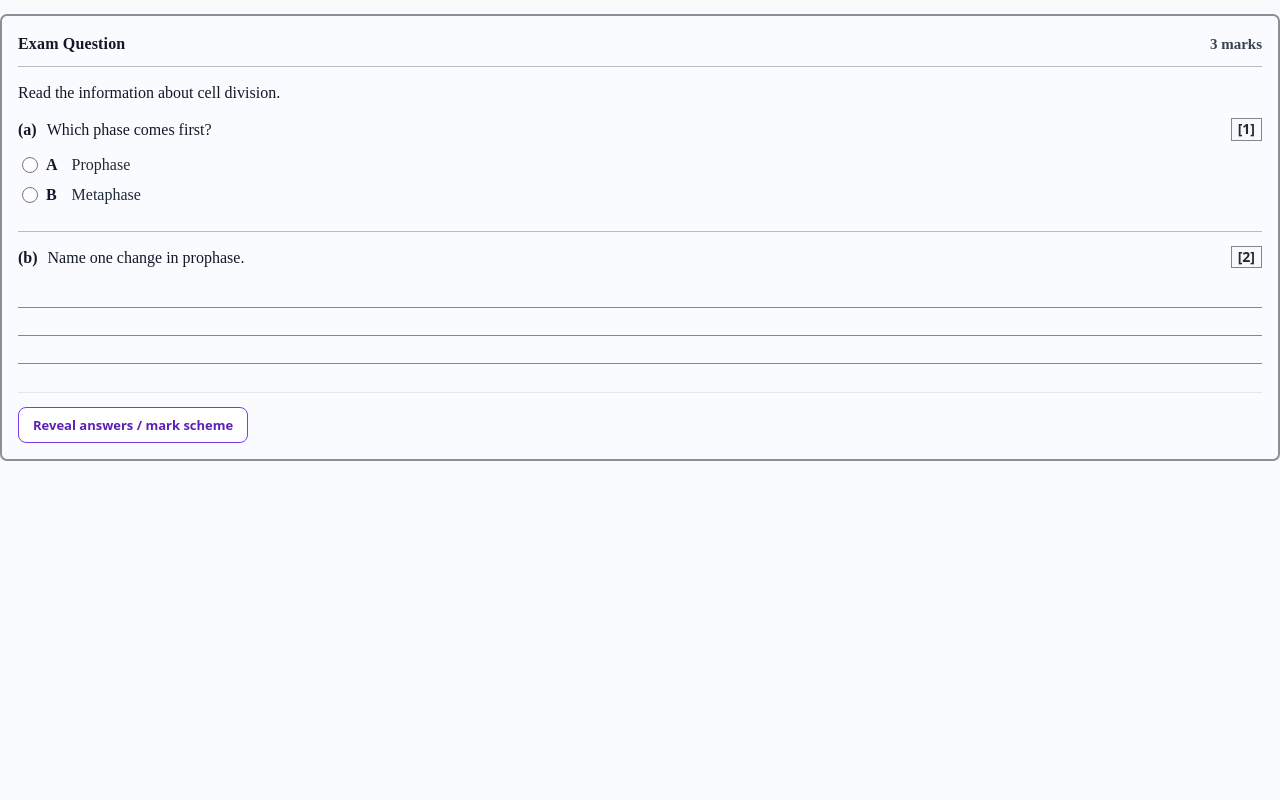
it: ExamQuestionBlock composite question marking › editor composite reveal stays enabled without checking
Click the button with test id "exam-composite-reveal-btn". click: {"x": 133, "y": 425}
box: [18,407,248,443]
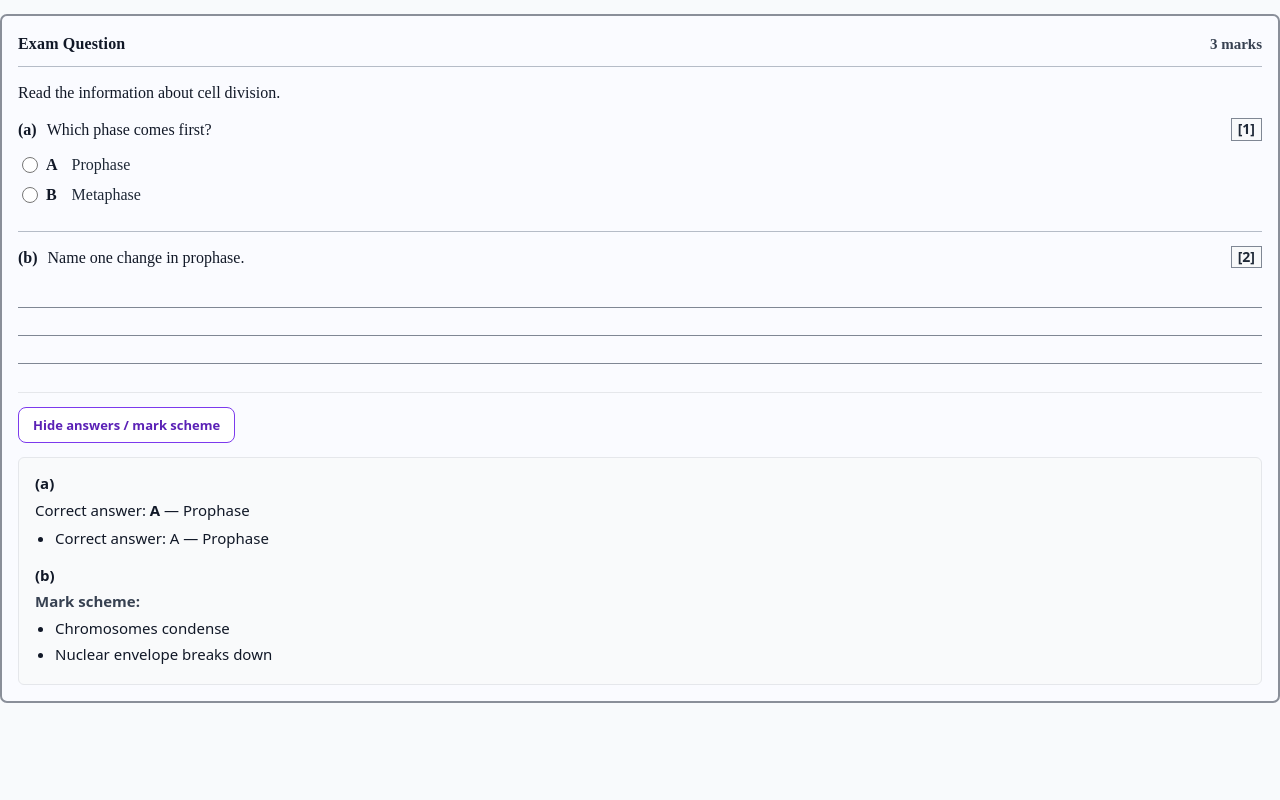
Result: the element with class "exam-composite__reveal" is shown at [18,457,1262,685]
